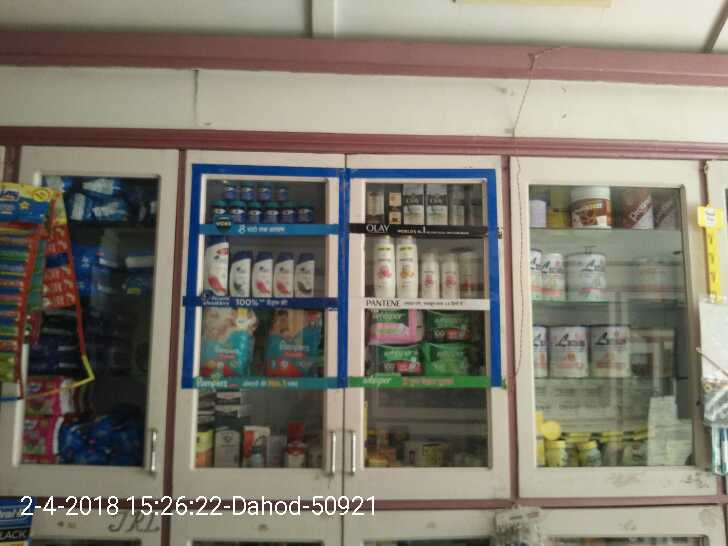vicks: (211, 200, 232, 221), (262, 200, 281, 222), (232, 201, 250, 221), (281, 200, 298, 221), (298, 202, 315, 221), (250, 201, 262, 222), (225, 180, 239, 197), (240, 181, 254, 197), (254, 188, 276, 198), (280, 182, 287, 198)
